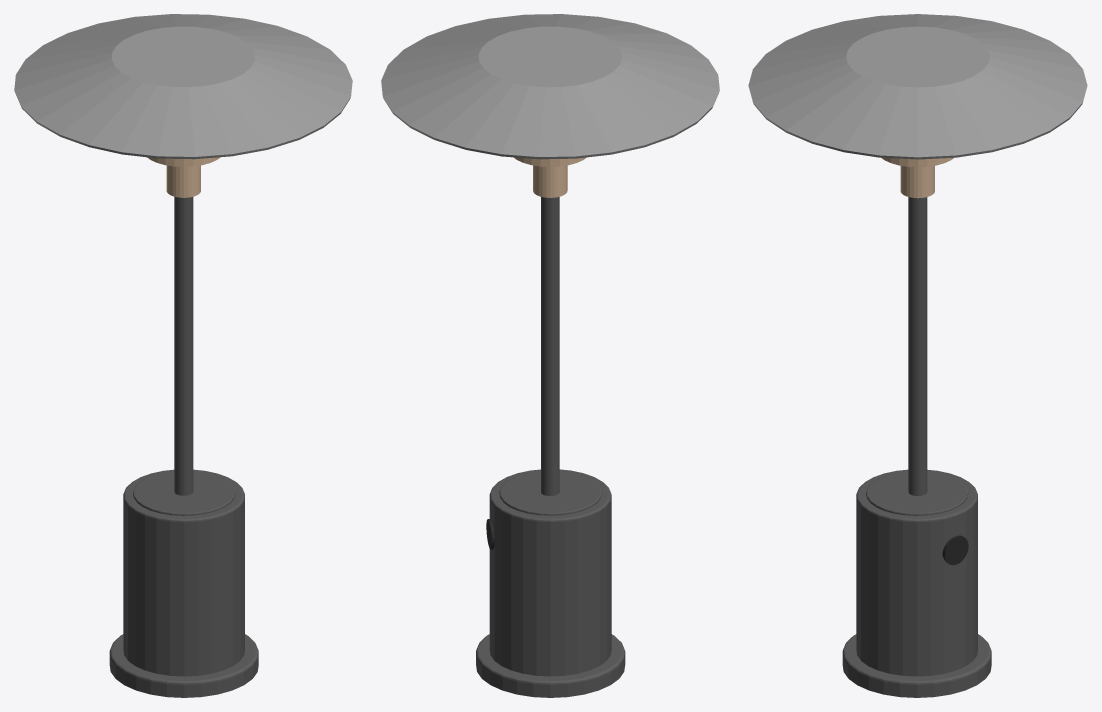
Rendered from b8c56499-7204-4220-82bc-b004aec1b472.glb.
3 views of the same model, side by side, from view 1: azimuth 30°, elevation 25°; view 2: azimuth 150°, elevation 25°; view 3: azimuth 270°, elevation 25° (orthographic).
Parts seen in each view (by area): view 1: Circle002, Cylinder007, Cylinder012, Cylinder009, Cylinder010; view 2: Circle002, Cylinder007, Cylinder012, Cylinder009, Cylinder010, Object002; view 3: Circle002, Cylinder007, Cylinder012, Cylinder009, Object002, Cylinder010, Cylinder011.
Part boxes in pixels (x1,y1,x2,y2): Circle002: (14,14,352,159); Cylinder007: (123,469,244,676); Cylinder012: (174,196,193,495); Cylinder009: (109,634,258,697); Cylinder010: (166,165,200,197); Circle002: (381,14,719,159); Cylinder007: (489,469,611,676); Cylinder012: (541,197,559,495); Cylinder009: (476,634,625,697); Cylinder010: (533,165,567,197); Object002: (489,555,511,614); Circle002: (748,14,1087,159); Cylinder007: (856,469,977,676); Cylinder012: (908,197,927,495); Cylinder009: (842,634,991,697); Object002: (917,560,977,620); Cylinder010: (900,165,934,198); Cylinder011: (942,535,968,565).
Size of the model in its own units: 13382 by 26520 by 13382.
